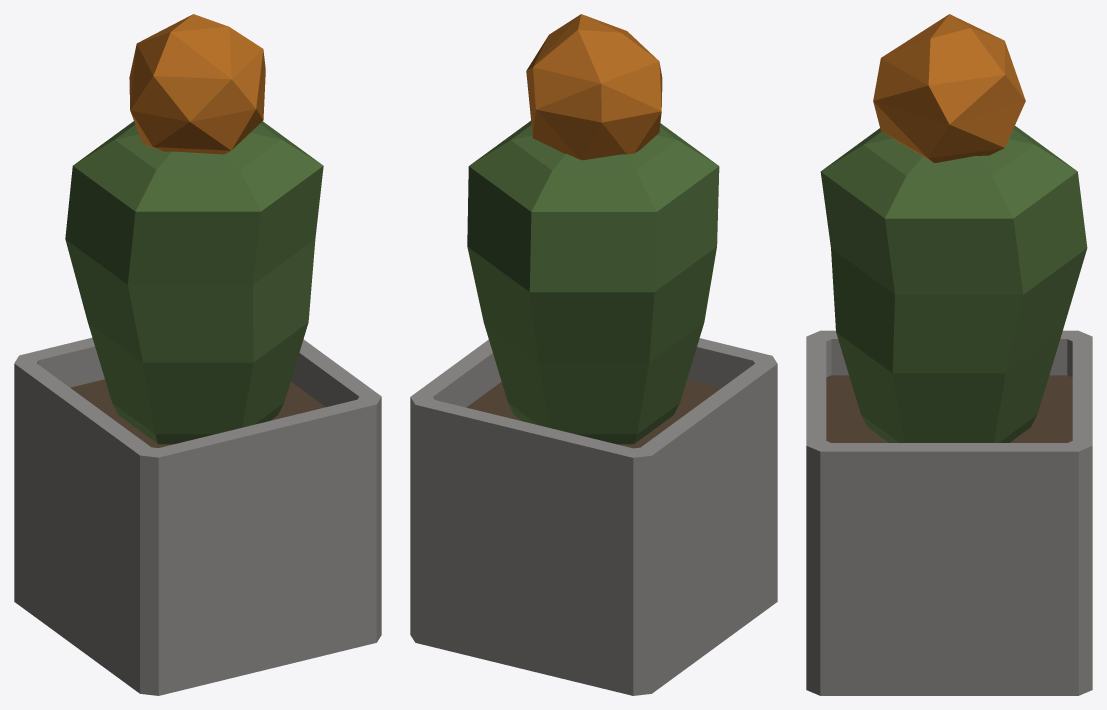
File: SM_Props_Interior_Plant_Small_04.fbx
The picture shows the model from 3 angles, left to right: view 1: azimuth 30°, elevation 25°; view 2: azimuth 150°, elevation 25°; view 3: azimuth 270°, elevation 25°; orthographic projection. The views are drawn at different scales.
Parts seen in each view (by area): view 1: SM_Props_Interior_Plant_Small_04; view 2: SM_Props_Interior_Plant_Small_04; view 3: SM_Props_Interior_Plant_Small_04.
Part boxes in pixels (box(x1,y1,x2,y2)): SM_Props_Interior_Plant_Small_04: box(14, 14, 381, 695); SM_Props_Interior_Plant_Small_04: box(410, 14, 777, 695); SM_Props_Interior_Plant_Small_04: box(806, 14, 1092, 695).
Bounding box in the file's own units: 23.76 × 55.92 × 23.76.
